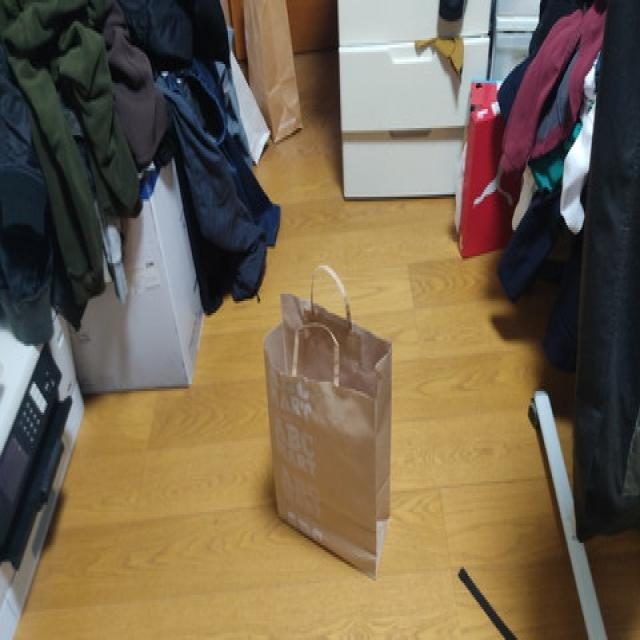paper bag: (261, 260, 398, 580)
